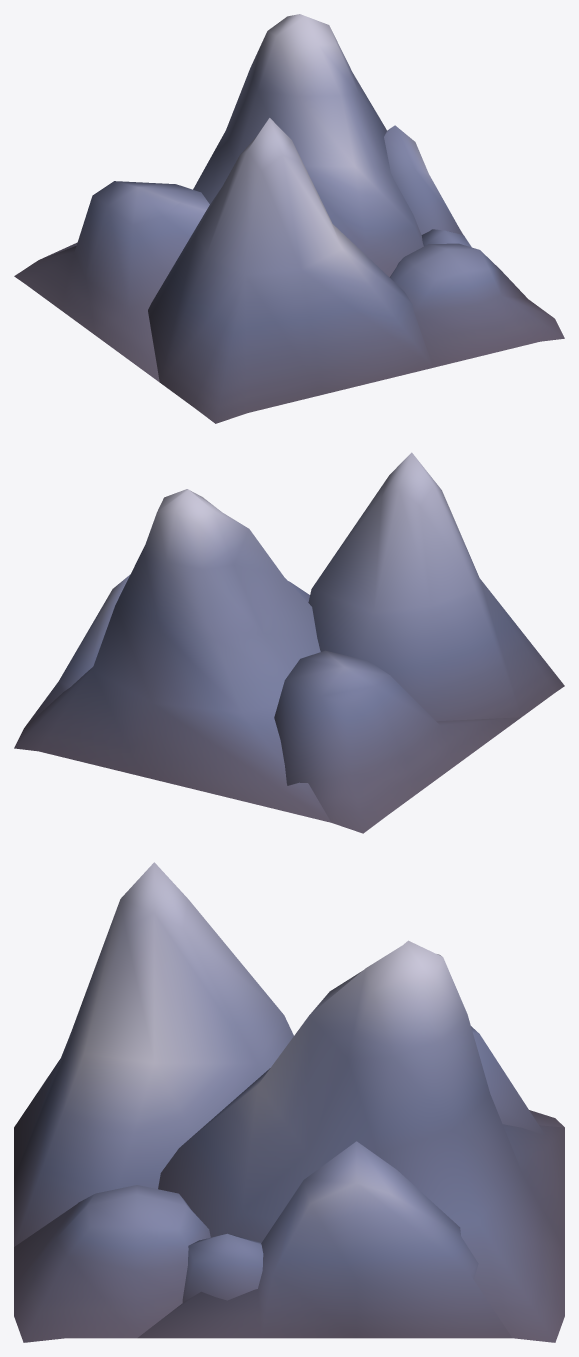
File: block_mountain_3_1.fbx
3 renders of one model, top to bottom at view 1: azimuth 30°, elevation 25°; view 2: azimuth 150°, elevation 25°; view 3: azimuth 270°, elevation 25°, orthographic. The views are drawn at different scales.
Parts seen in each view (by area): view 1: block_mountain_3_1; view 2: block_mountain_3_1; view 3: block_mountain_3_1.
Boxes of the visible parts, x1,y1,x2,y2 form: block_mountain_3_1: (14,14,564,423); block_mountain_3_1: (14,452,564,833); block_mountain_3_1: (14,862,564,1342).
Bounding box in the file's own units: 185 × 121 × 185.
